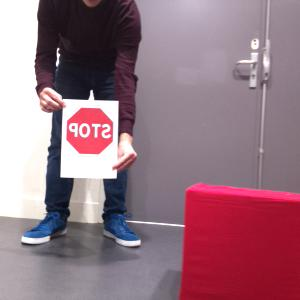stop: (65, 106, 115, 156)
